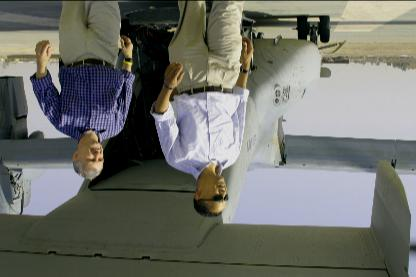Tornado: (0, 4, 415, 277)
